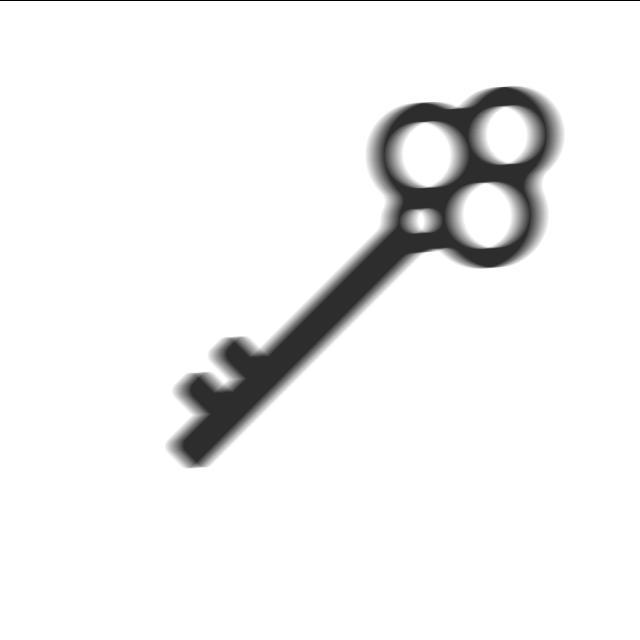key: (159, 79, 575, 479)
